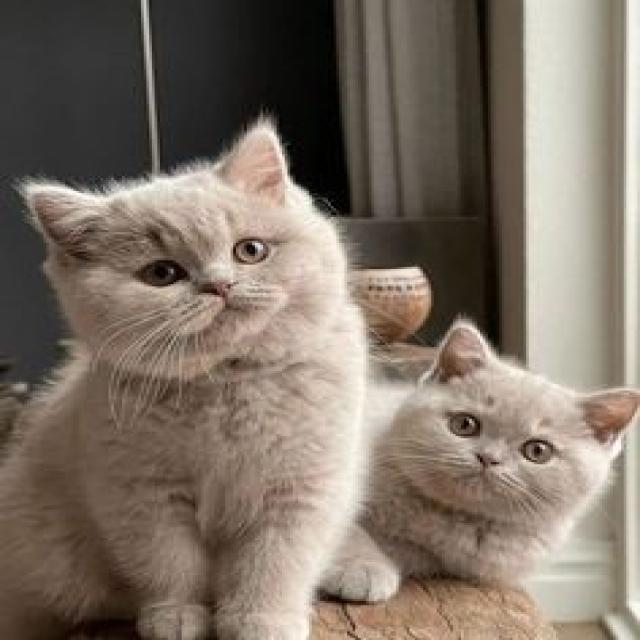da khoe manh: (74, 368, 355, 584)
